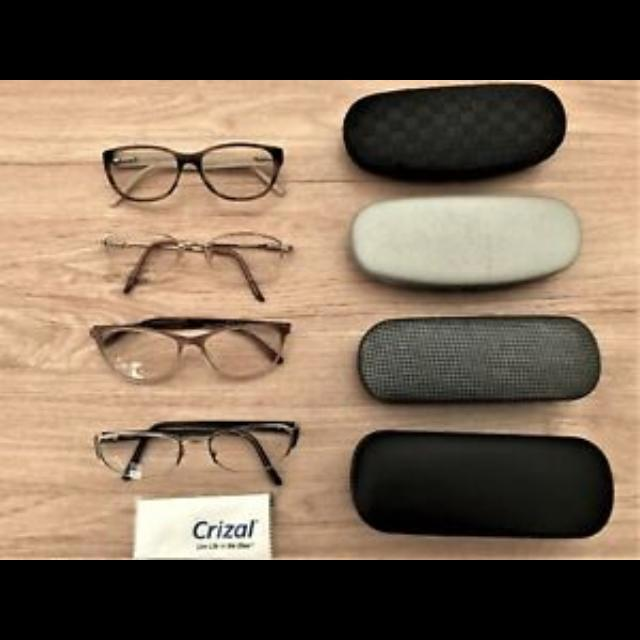mask: (98, 232, 296, 302), (94, 420, 304, 486), (88, 318, 294, 384), (104, 140, 286, 208)
